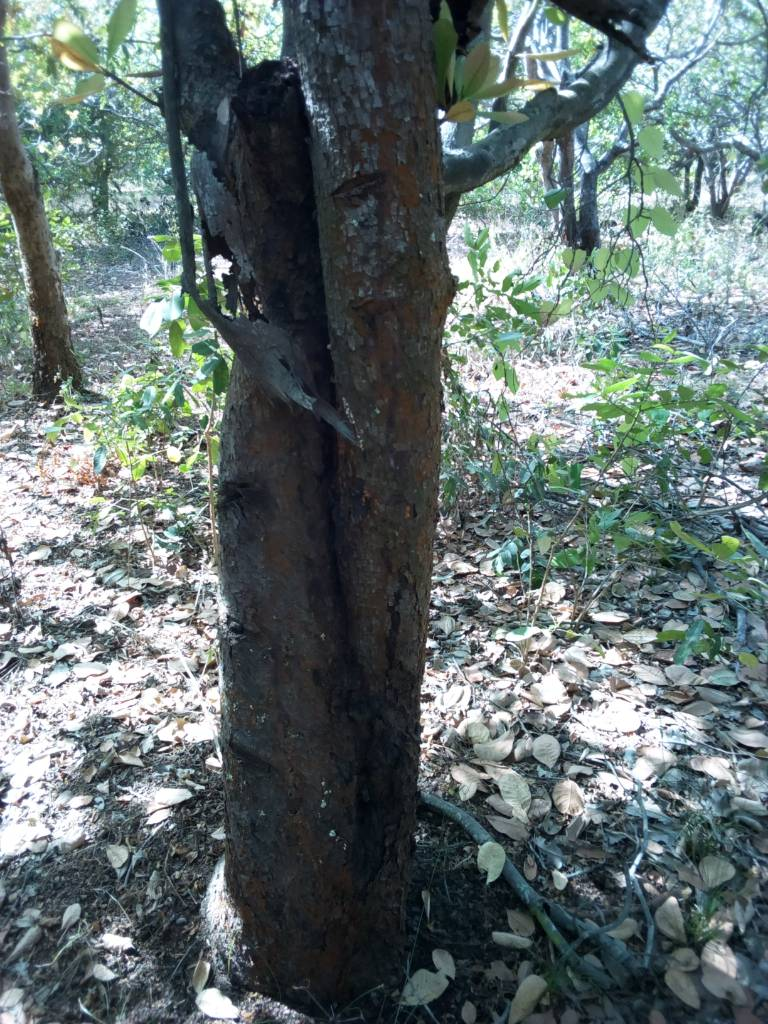Termites: (236, 436, 418, 953)
